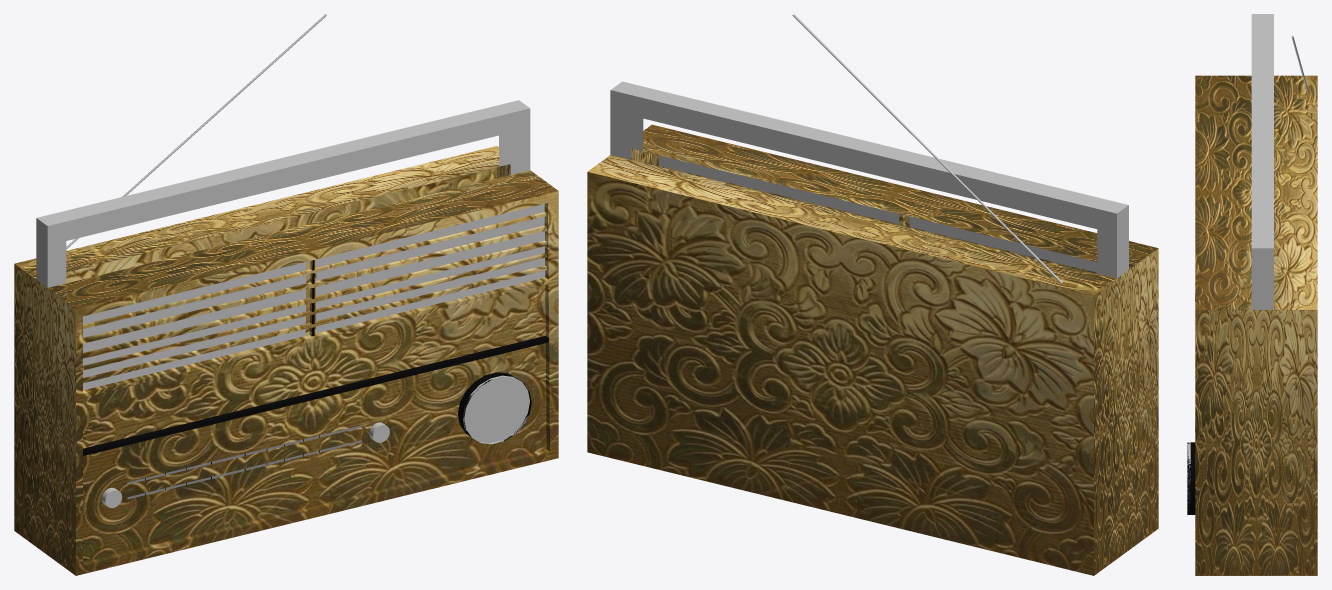
The model's file is radio.FBX.
The picture shows the model from 3 angles, left to right: view 1: azimuth 30°, elevation 25°; view 2: azimuth 150°, elevation 25°; view 3: azimuth 270°, elevation 25°; orthographic projection. The views are drawn at different scales.
Visible parts, largest first — view 1: Box001, Cylinder001, Cylinder006, Plane001, Plane002; view 2: Box001, Cylinder006; view 3: Box001, Cylinder001.
Part boxes in pixels (left/top/right/bottom): Box001: left=14, top=100, right=558, bottom=575; Cylinder001: left=458, top=372, right=531, bottom=444; Cylinder006: left=66, top=14, right=326, bottom=249; Plane001: left=127, top=425, right=361, bottom=484; Plane002: left=127, top=440, right=361, bottom=499; Box001: left=587, top=81, right=1158, bottom=575; Cylinder006: left=792, top=14, right=1062, bottom=282; Box001: left=1195, top=14, right=1317, bottom=575; Cylinder001: left=1187, top=442, right=1195, bottom=514.
Size of the model in its own units: 81.73 by 76.34 by 19.22.
